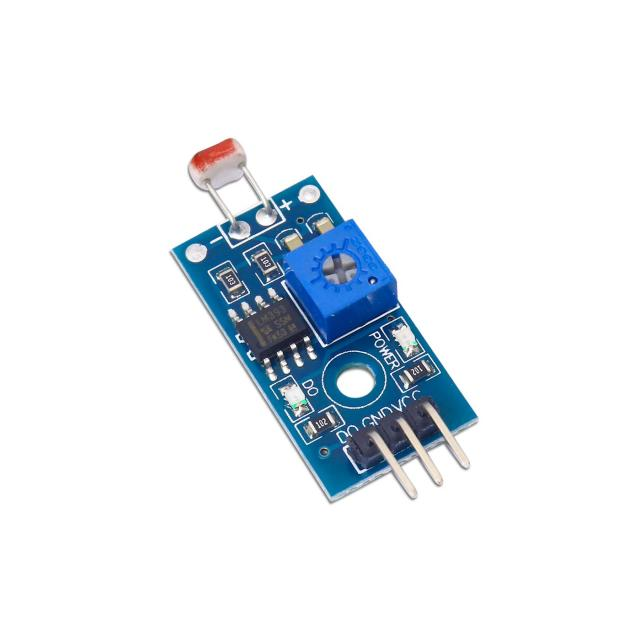IC: (234, 293, 314, 372)
LED: (394, 321, 422, 360), (279, 383, 308, 414)
capacitor 1V5: (312, 215, 337, 236), (279, 229, 302, 251)
connector -5v-: (354, 401, 480, 508)
potentiometer POT1: (291, 220, 396, 322)
resistor IR1: (300, 403, 336, 436), (252, 242, 280, 284), (217, 260, 241, 299), (403, 358, 431, 383)
